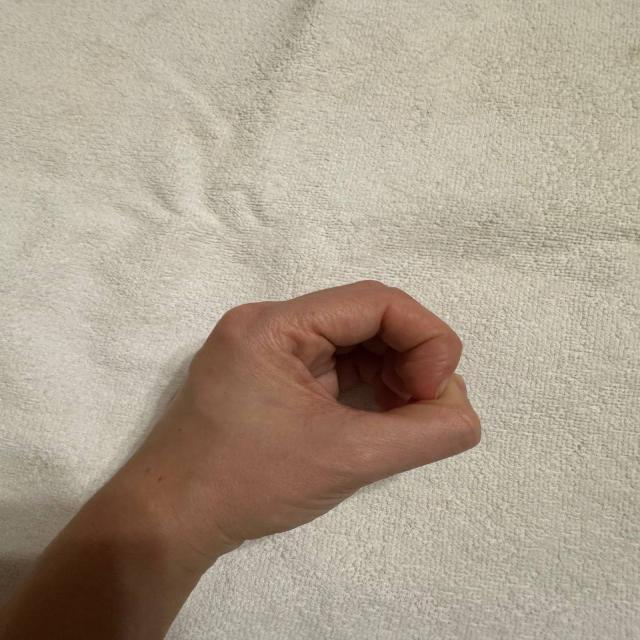e: (133, 280, 531, 533)
